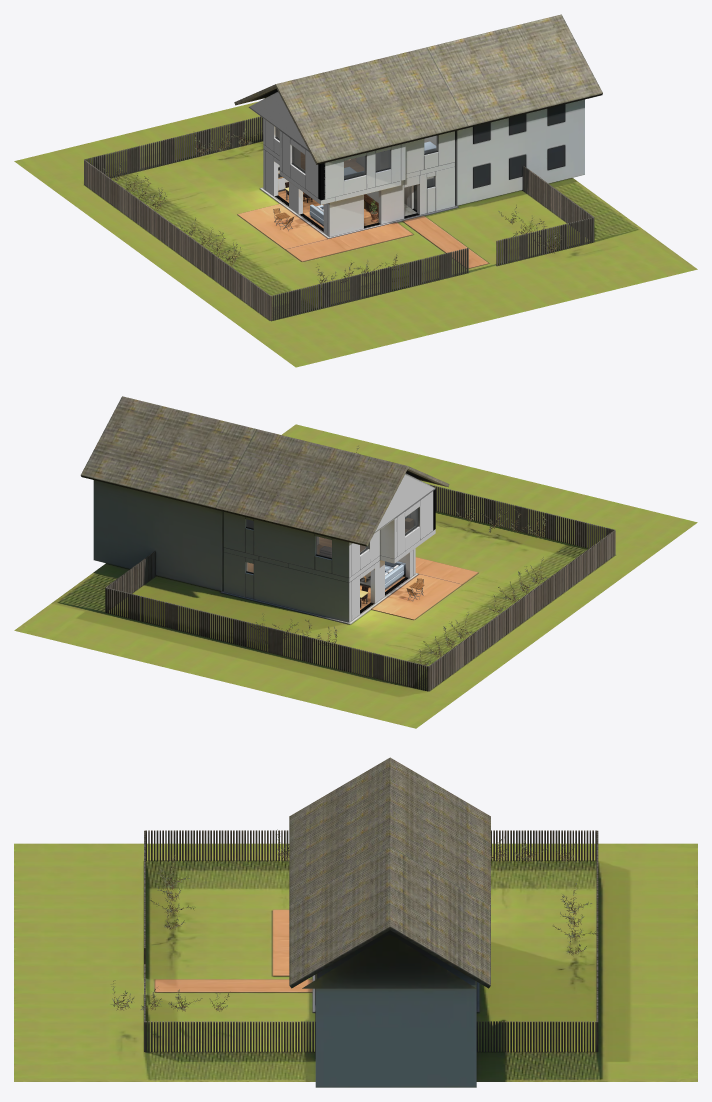
Rendered from house_photoreal.glb.
The picture shows the model from 3 angles, top to bottom: view 1: azimuth 30°, elevation 25°; view 2: azimuth 150°, elevation 25°; view 3: azimuth 270°, elevation 25°; orthographic projection. The views are drawn at different scales.
Parts seen in each view (by area): view 1: Exterior, HouseShell, Glass; view 2: Exterior, HouseShell, Glass; view 3: Exterior.
Part boxes in pixels (<box>): Exterior: <box>14,14,697,367</box>; HouseShell: <box>263,118,454,236</box>; Glass: <box>276,128,437,186</box>; Exterior: <box>14,396,697,728</box>; HouseShell: <box>223,489,435,622</box>; Glass: <box>246,508,417,572</box>; Exterior: <box>14,757,697,1087</box>.
Size of the model in its own units: 29.3 by 9.36 by 34.
Materials: 20 (19 with a texture image).
